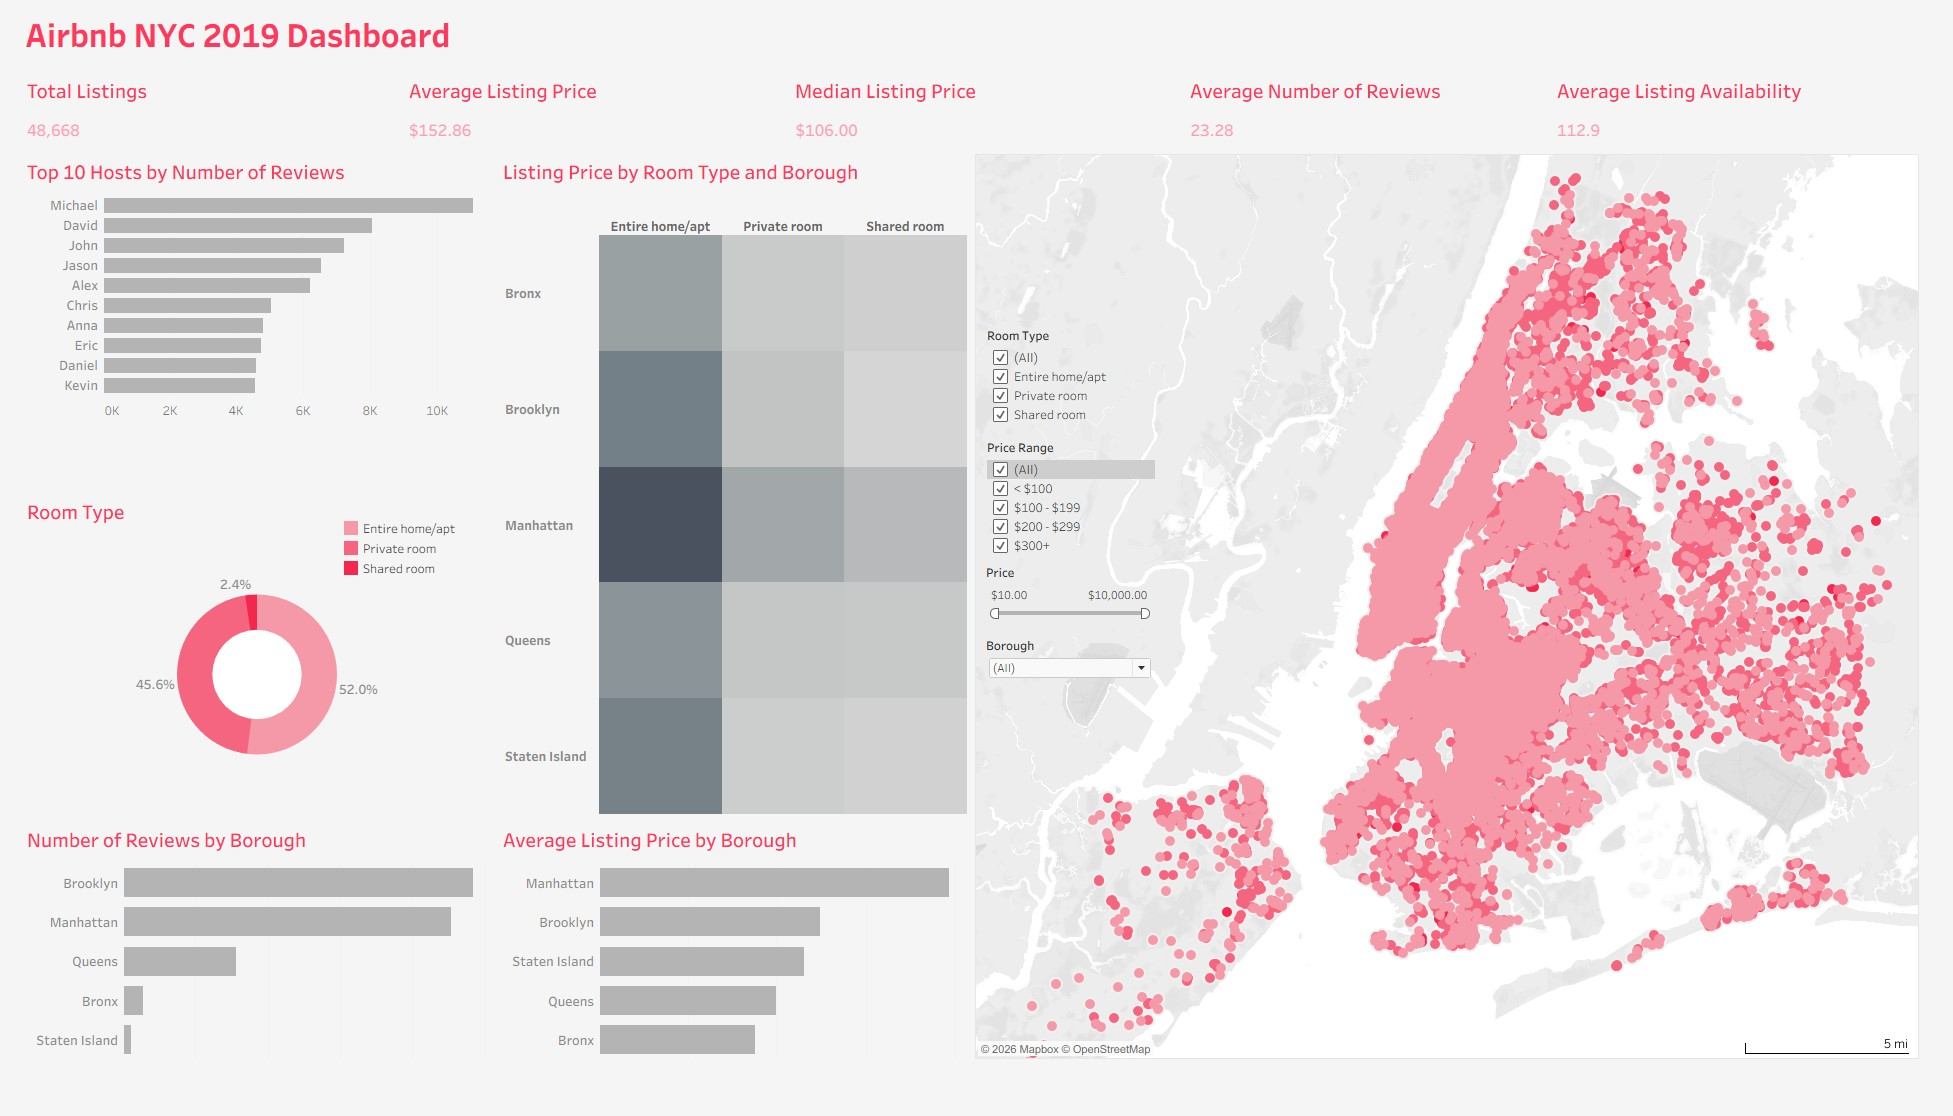

The page's visual inventory and layout, read from the dashboard file:
{"tool":"tableau","page":{"name":"Dashboard 1","canvas":[1920,1080],"ordinal":0},"visuals":[{"type":"text","box":[8,8,1904,70]},{"type":"worksheet","title":"KPItotallistings","mark":"Automatic","box":[8,78,382,81.3]},{"type":"worksheet","title":"KPIavgprice","mark":"Automatic","box":[390,78,386,81.3]},{"type":"worksheet","title":"KPImedprice","mark":"Automatic","box":[776,78,395,81.3]},{"type":"worksheet","title":"KPIavgreviews","mark":"Automatic","box":[1171,78,367,81.3]},{"type":"worksheet","title":"KPIavgavailability","mark":"Automatic","box":[1538,78,374,81.3]},{"type":"worksheet","title":"Barhostsbyreviews","mark":"Automatic","rows":["host_name"],"cols":["number_of_reviews"],"box":[8,159.3,475.9,339.7]},{"type":"worksheet","title":"Heatmaptypebyborough","mark":"Automatic","rows":["neighbourhood_group"],"cols":["room_type"],"box":[484,159.3,476,668]},{"type":"worksheet","title":"Maplistings","mark":"Circle","rows":["latitude"],"cols":["longitude"],"box":[960,159.3,952,912.7]},{"type":"filter","title":"Maplistings","param":"[federated.145yd0z09dek1p122aieh1rym9jb].[none:room_type:nk]","box":[976,336,168,108]},{"type":"filter","title":"Maplistings","param":"[federated.145yd0z09dek1p122aieh1rym9jb].[none:Calculation_22804734207377409:nk]","box":[976,448,168,119]},{"type":"worksheet","title":"Donutroomtype","mark":"Pie","rows":["Calculation_0862293583007744","Calculation_0862293583007744"],"box":[8,499,475.9,328.2]},{"type":"legend","title":"Maplistings","param":"[federated.145yd0z09dek1p122aieh1rym9jb].[none:room_type:nk]","box":[330,509,140,82]},{"type":"filter","title":"Maplistings","param":"[federated.145yd0z09dek1p122aieh1rym9jb].[none:price:qk]","box":[975,573,168,69]},{"type":"filter","title":"Maplistings","param":"[federated.145yd0z09dek1p122aieh1rym9jb].[none:neighbourhood_group:nk]","box":[975,646,168,52]},{"type":"worksheet","title":"Barreviewsbyborough","mark":"Automatic","rows":["neighbourhood_group"],"cols":["number_of_reviews"],"box":[8,827.2,475.9,244.8]},{"type":"worksheet","title":"Barpricebyborough","mark":"Automatic","rows":["neighbourhood_group"],"cols":["price"],"box":[484,827.2,476,244.8]}]}

Visuals, with their boxes in screenshot pixels (x1, y1, x2, y2), scaled from the page's 1920x1080 canvas onto the 1953x1116 screenshot:
text: (x1=8, y1=8, x2=1945, y2=81)
"KPItotallistings" worksheet: (x1=8, y1=81, x2=397, y2=165)
"KPIavgprice" worksheet: (x1=397, y1=81, x2=789, y2=165)
"KPImedprice" worksheet: (x1=789, y1=81, x2=1191, y2=165)
"KPIavgreviews" worksheet: (x1=1191, y1=81, x2=1564, y2=165)
"KPIavgavailability" worksheet: (x1=1564, y1=81, x2=1945, y2=165)
"Barhostsbyreviews" worksheet: (x1=8, y1=165, x2=492, y2=516)
"Heatmaptypebyborough" worksheet: (x1=492, y1=165, x2=976, y2=855)
"Maplistings" worksheet (Circle marks): (x1=976, y1=165, x2=1945, y2=1108)
"Maplistings" filter: (x1=993, y1=347, x2=1164, y2=459)
"Maplistings" filter: (x1=993, y1=463, x2=1164, y2=586)
"Donutroomtype" worksheet (Pie marks): (x1=8, y1=516, x2=492, y2=855)
"Maplistings" legend: (x1=336, y1=526, x2=478, y2=611)
"Maplistings" filter: (x1=992, y1=592, x2=1163, y2=663)
"Maplistings" filter: (x1=992, y1=668, x2=1163, y2=721)
"Barreviewsbyborough" worksheet: (x1=8, y1=855, x2=492, y2=1108)
"Barpricebyborough" worksheet: (x1=492, y1=855, x2=976, y2=1108)
